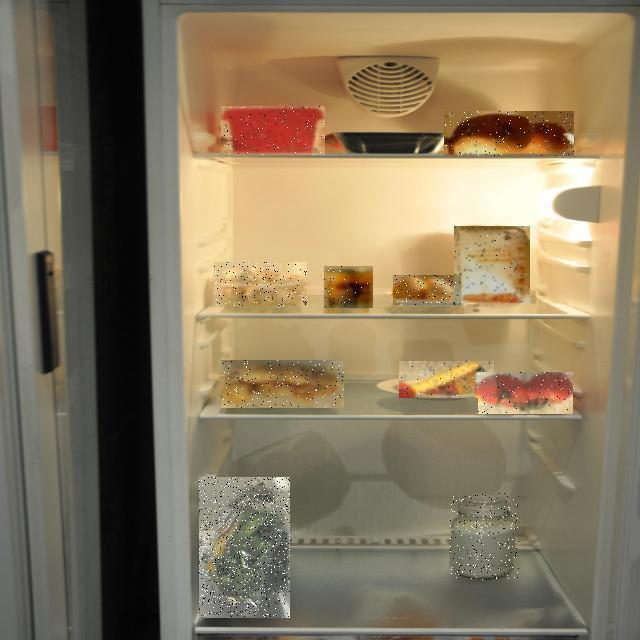Butter: (221, 106, 325, 155)
Cheese: (400, 361, 496, 398)
Corn: (324, 266, 373, 308)
Eggs: (393, 275, 461, 305)
Mushroom: (214, 262, 307, 306)
Potatoes: (221, 360, 344, 408)
Spinach: (199, 477, 290, 618)
Sugar: (450, 493, 519, 580), (455, 226, 531, 303)
Sweet potato: (444, 111, 574, 156)
Tomato Paste: (478, 372, 573, 414)
